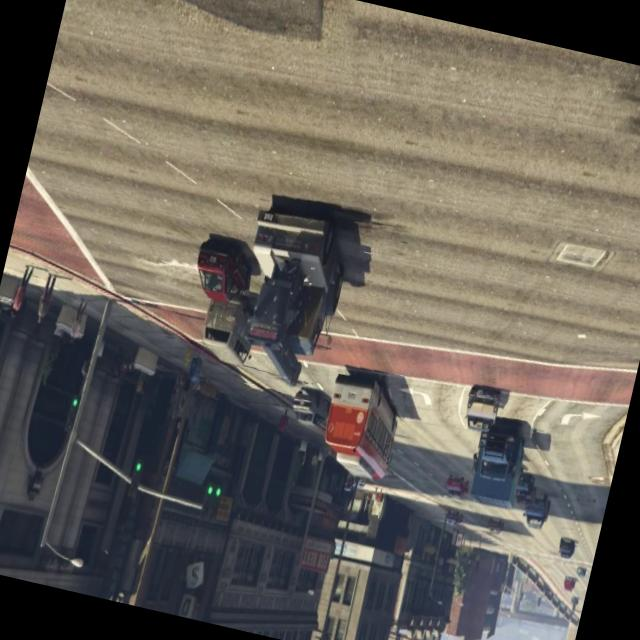Green-Signal: (189, 454, 234, 536), (52, 374, 92, 444), (118, 439, 152, 507)
